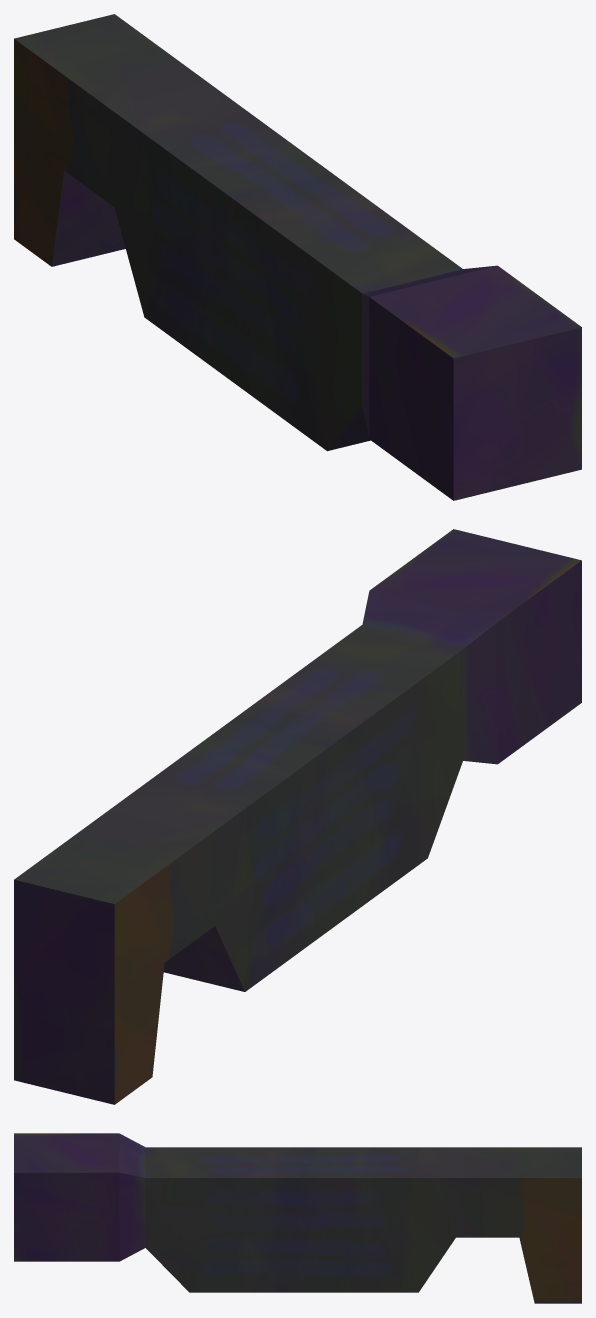
File: pistolon.dae
3 views of the same model, one above another, from view 1: azimuth 30°, elevation 25°; view 2: azimuth 150°, elevation 25°; view 3: azimuth 270°, elevation 25° (orthographic). The views are drawn at different scales.
Visible parts, largest first — view 1: Cube; view 2: Cube; view 3: Cube.
Boxes of the visible parts, <box> form: Cube: <box>14,14,581,500</box>; Cube: <box>14,529,581,1104</box>; Cube: <box>14,1133,581,1303</box>.
Size of the model in its own units: 0.1482 by 0.9063 by 0.2382.
1 material, 1 textured.
